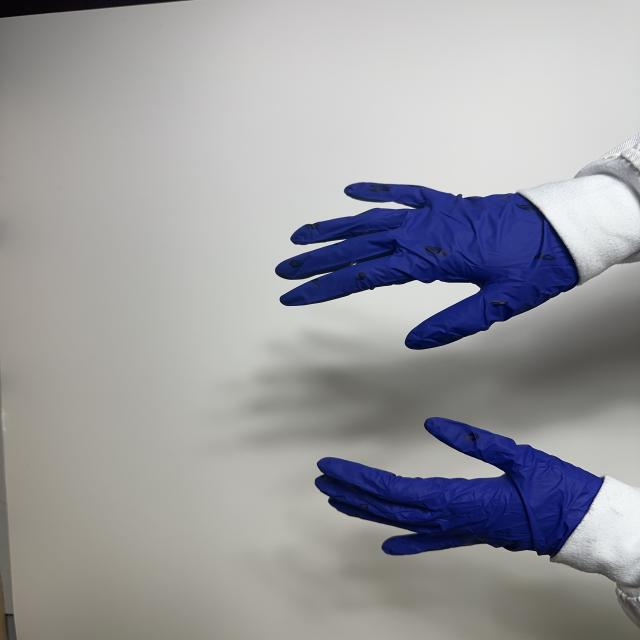gloves_contaminated: (276, 183, 578, 349), (316, 418, 604, 556)
